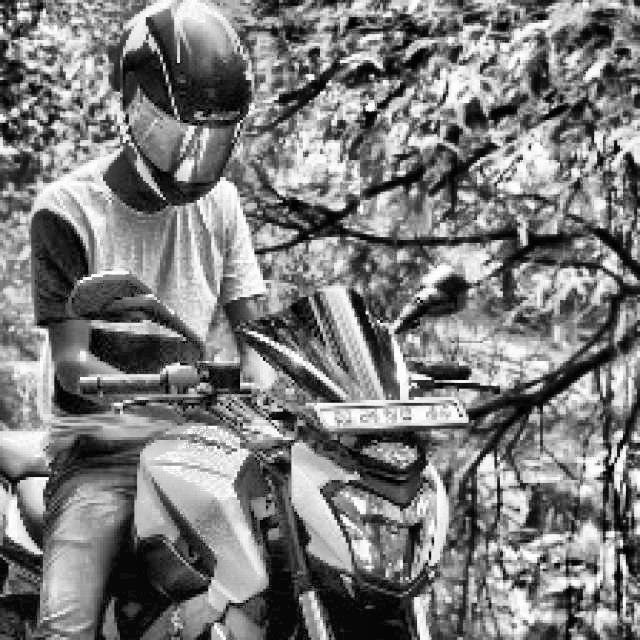motorcycle: (0, 271, 476, 640)
